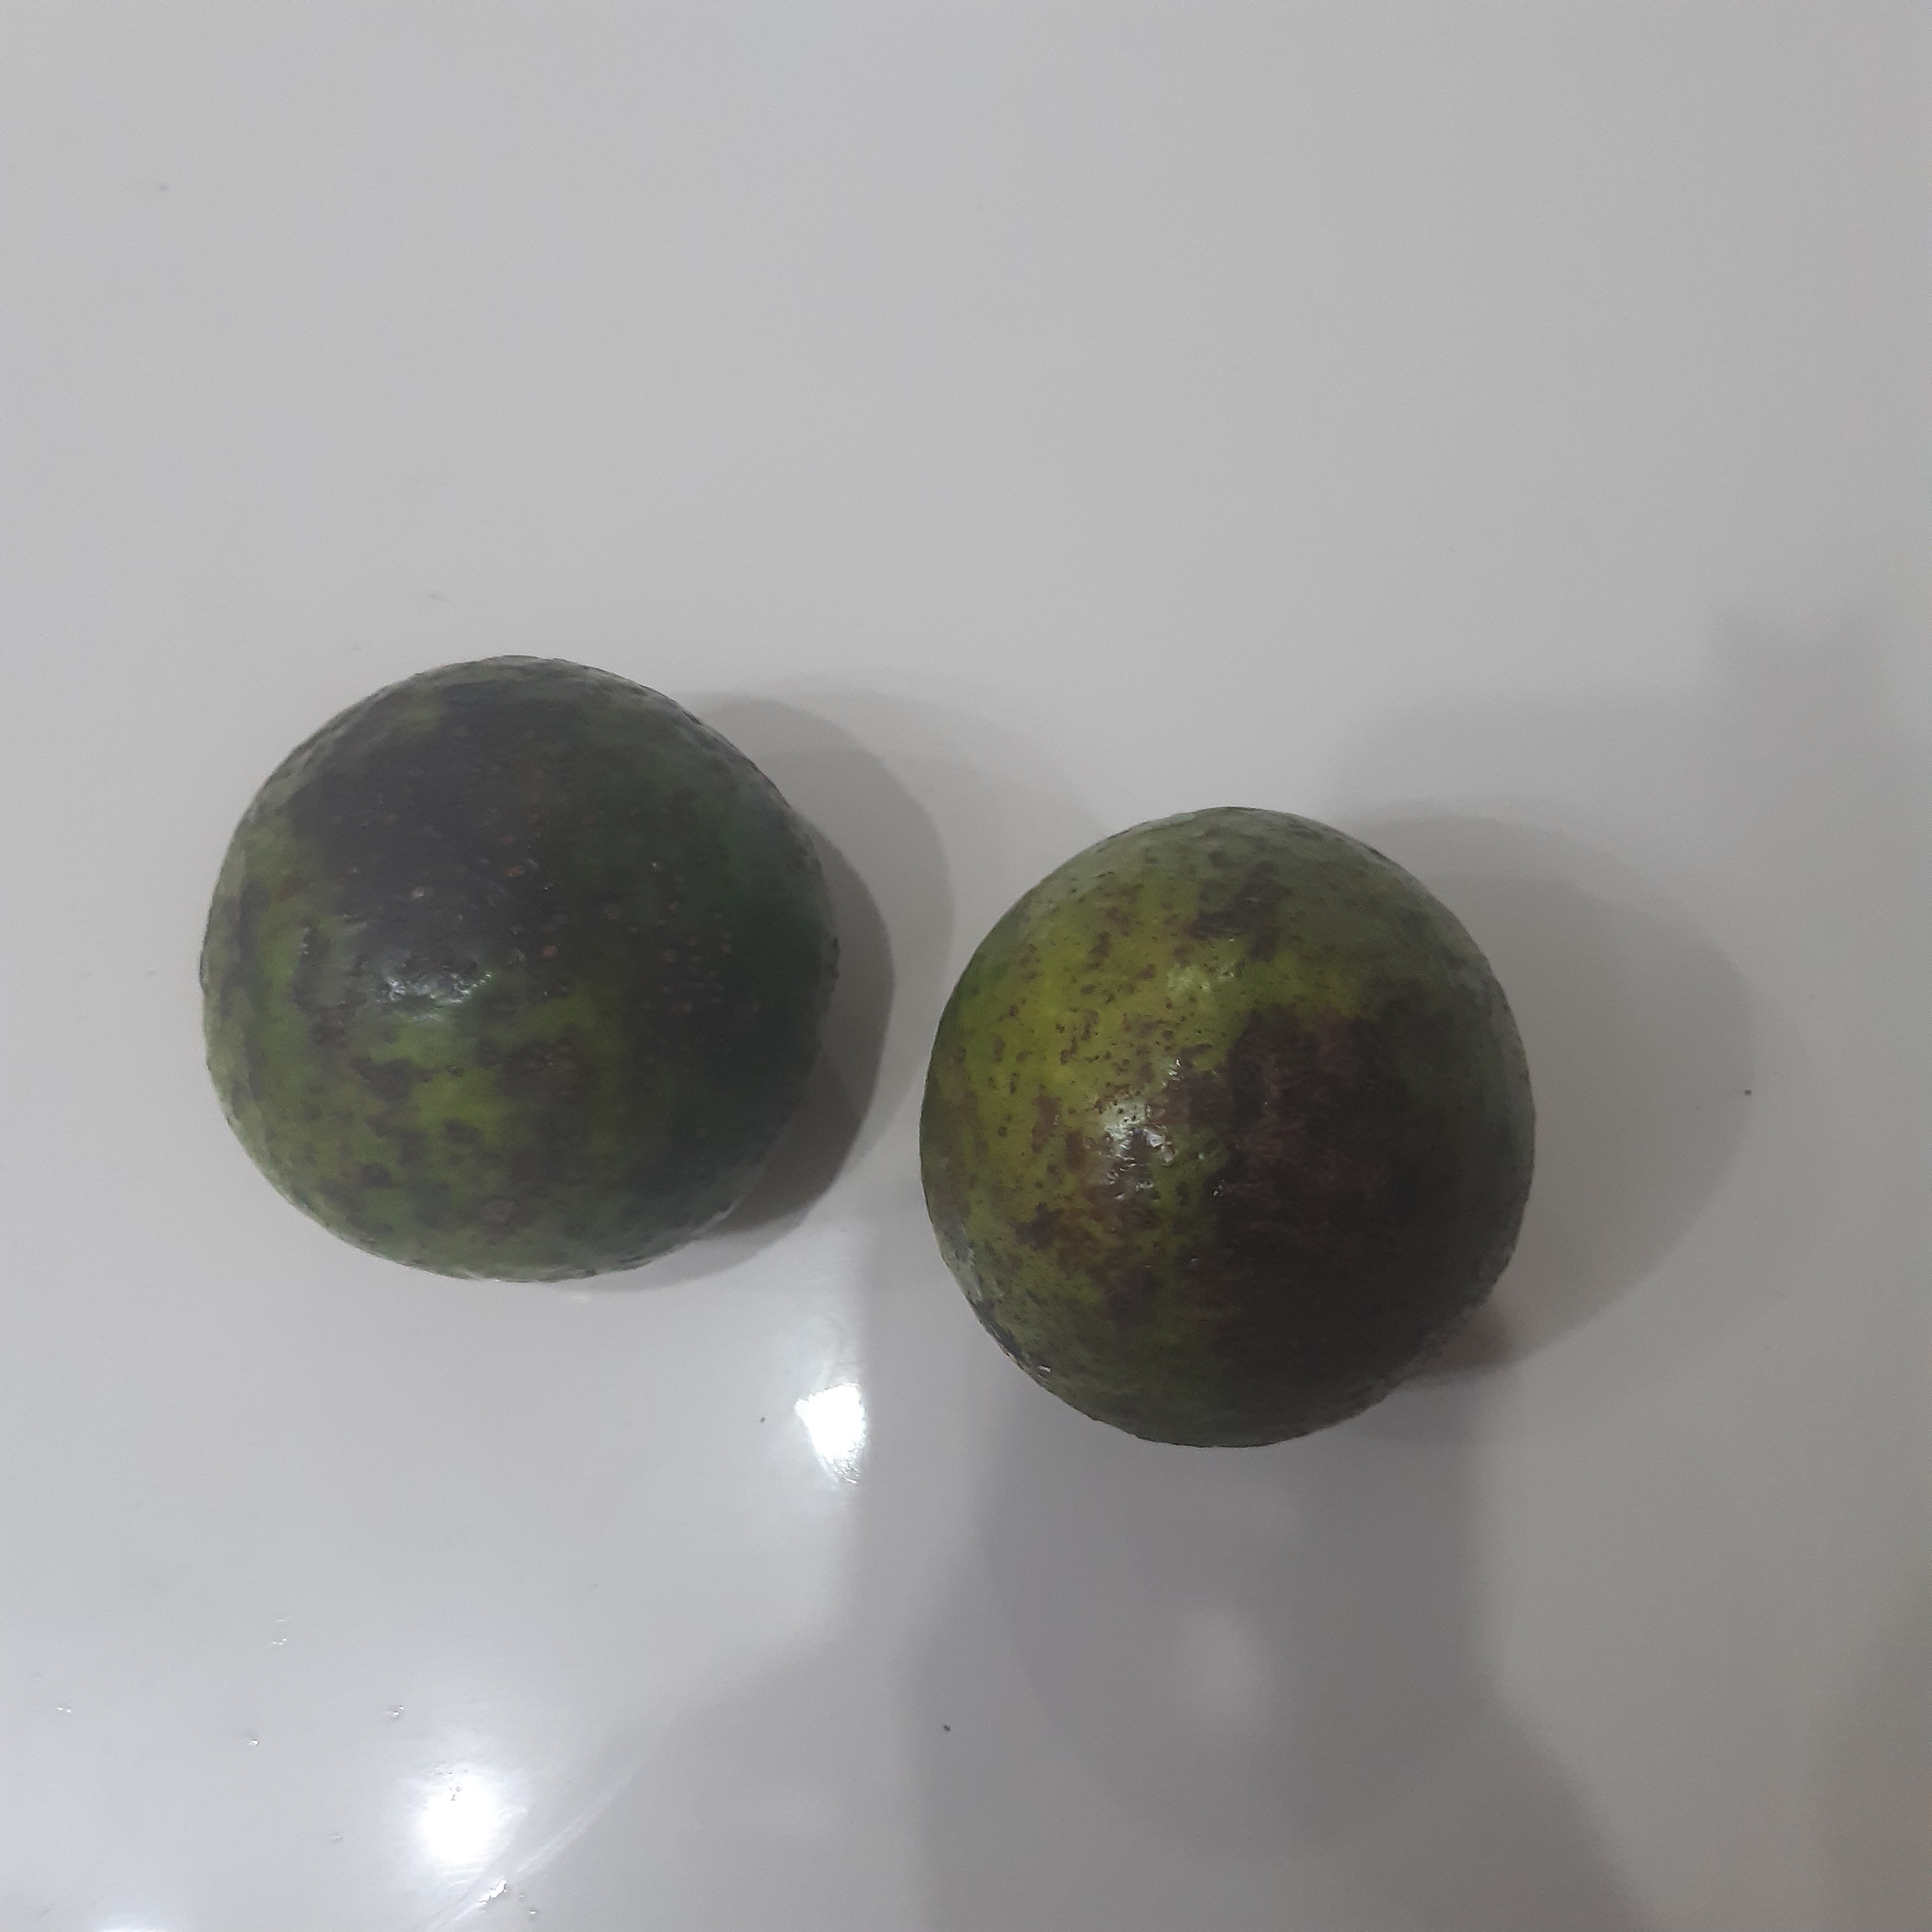Bo: (913, 805, 1539, 1454), (205, 649, 835, 1283)
